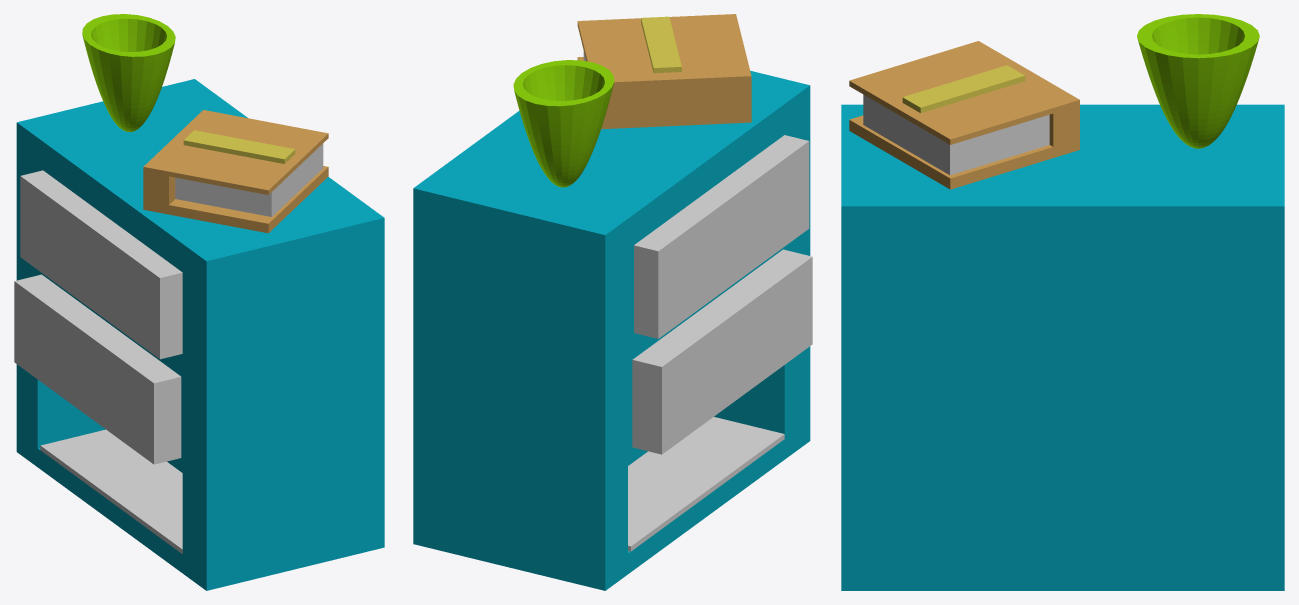
The model's file is Side Table Model Project 149.glb.
The picture shows the model from 3 angles, left to right: view 1: azimuth 30°, elevation 25°; view 2: azimuth 150°, elevation 25°; view 3: azimuth 270°, elevation 25°; orthographic projection. The views are drawn at different scales.
Parts seen in each view (by area): view 1: Mesh_Mesh_head_geo.001_lambert2SG.001; view 2: Mesh_Mesh_head_geo.001_lambert2SG.001; view 3: Mesh_Mesh_head_geo.001_lambert2SG.001.
Boxes of the visible parts, left/top/right/bottom form: Mesh_Mesh_head_geo.001_lambert2SG.001: left=14, top=14, right=384, bottom=590; Mesh_Mesh_head_geo.001_lambert2SG.001: left=413, top=14, right=812, bottom=590; Mesh_Mesh_head_geo.001_lambert2SG.001: left=841, top=14, right=1284, bottom=590.
Bounding box in the file's own units: 45 × 89 × 72.
